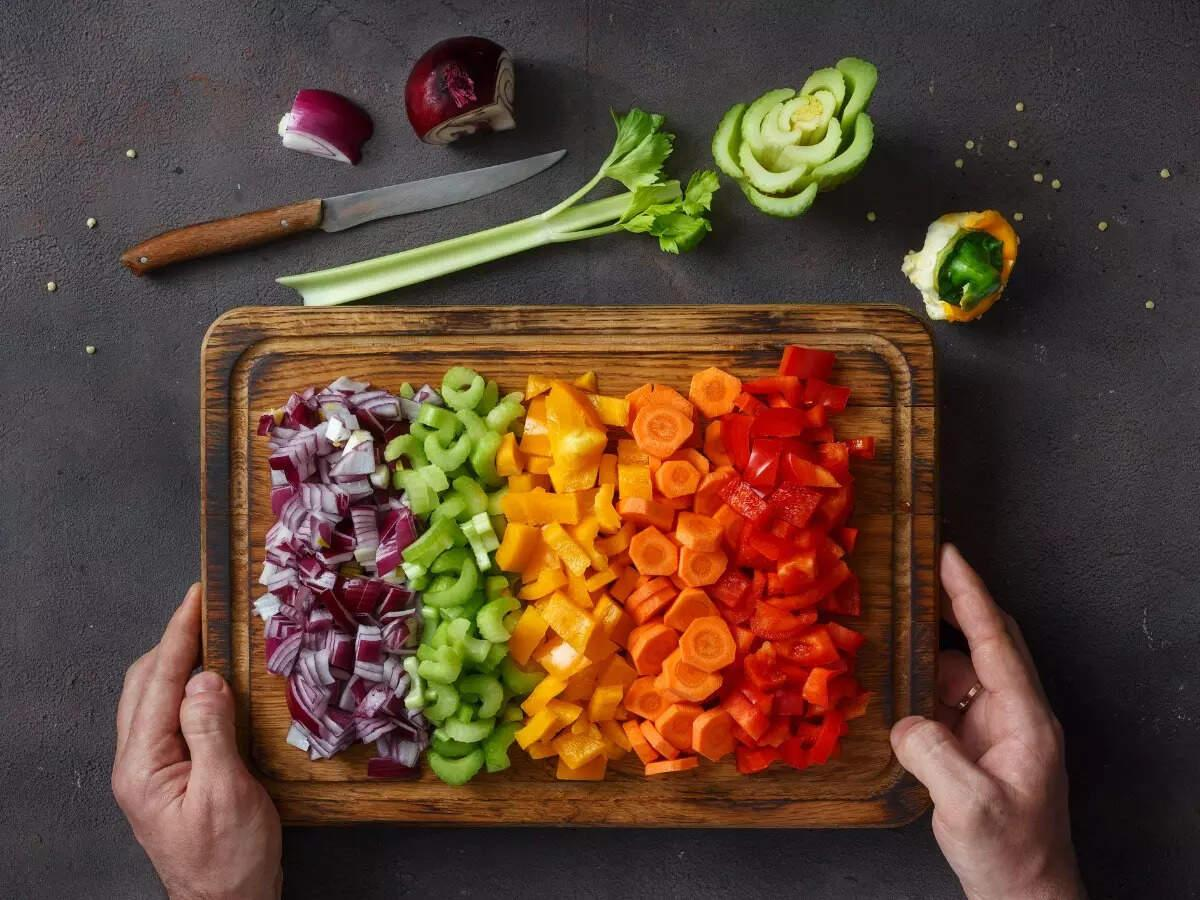carrot: (607, 369, 737, 773)
onion: (238, 384, 463, 777)
tomato: (738, 367, 869, 774)
